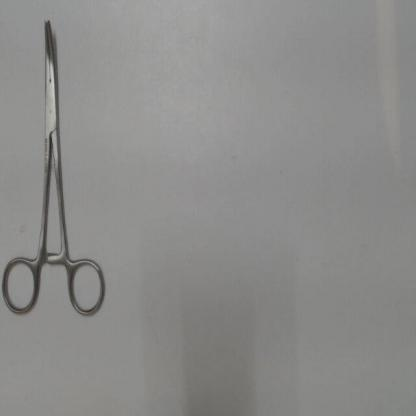Crile Artery Forceps: (1, 17, 112, 318)
